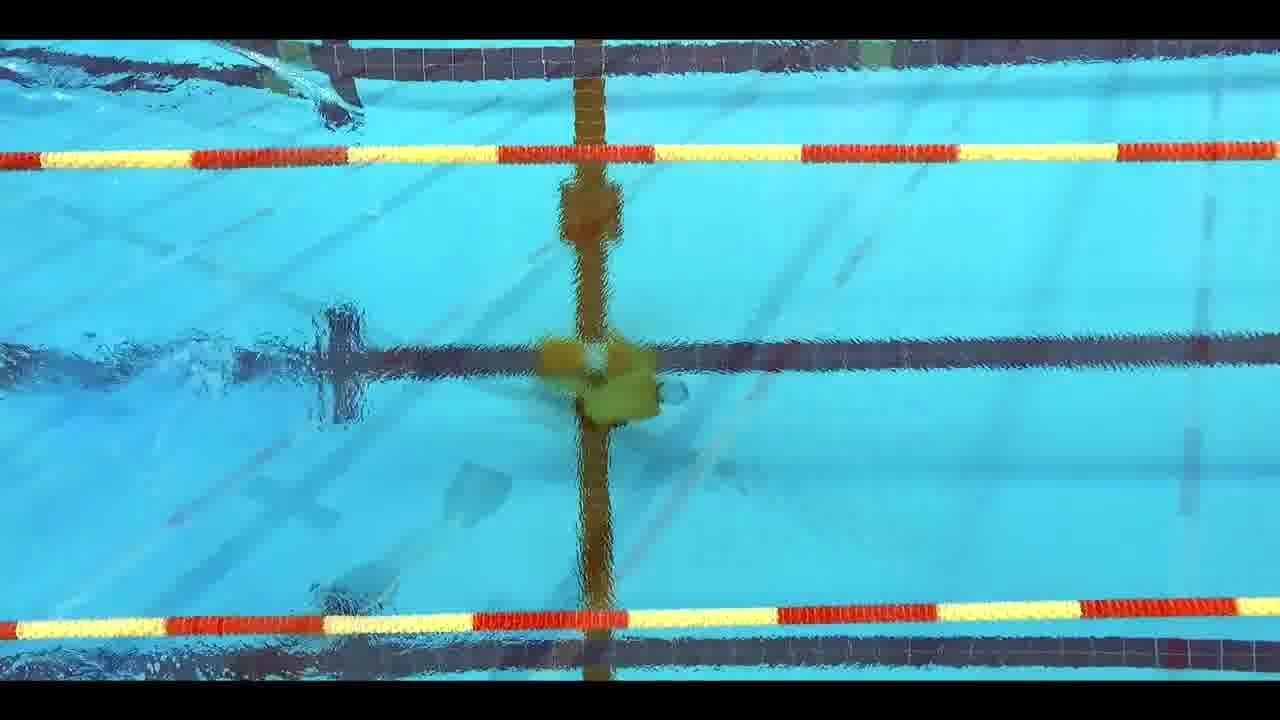human: (619, 354, 711, 430)
